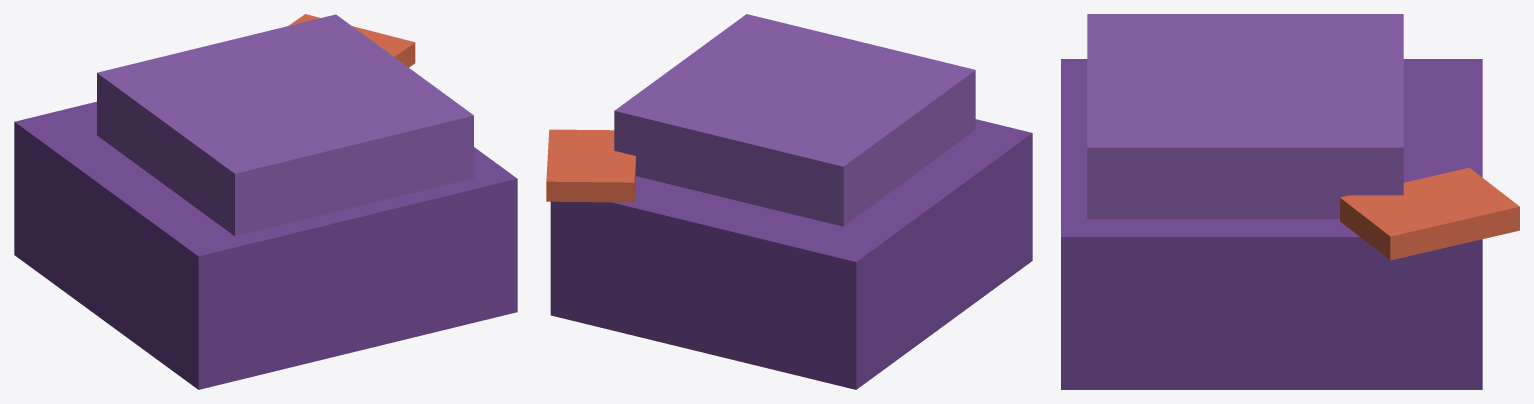
The model's file is bean_bag.glb.
The picture shows the model from 3 angles, left to right: view 1: azimuth 30°, elevation 25°; view 2: azimuth 150°, elevation 25°; view 3: azimuth 270°, elevation 25°; orthographic projection. The views are drawn at different scales.
Visible parts, largest first — view 1: Box1, Box2, Box3; view 2: Box1, Box2, Box3; view 3: Box1, Box2, Box3.
Boxes of the visible parts, x1,y1,x2,y2 form: Box1: [14, 101, 517, 389]; Box2: [97, 14, 473, 236]; Box3: [288, 14, 415, 67]; Box1: [550, 119, 1032, 389]; Box2: [614, 14, 975, 226]; Box3: [546, 129, 635, 202]; Box1: [1061, 59, 1482, 389]; Box2: [1087, 14, 1403, 219]; Box3: [1340, 167, 1519, 260].
Size of the model in its own units: 0.9049 by 0.47 by 0.8708.
